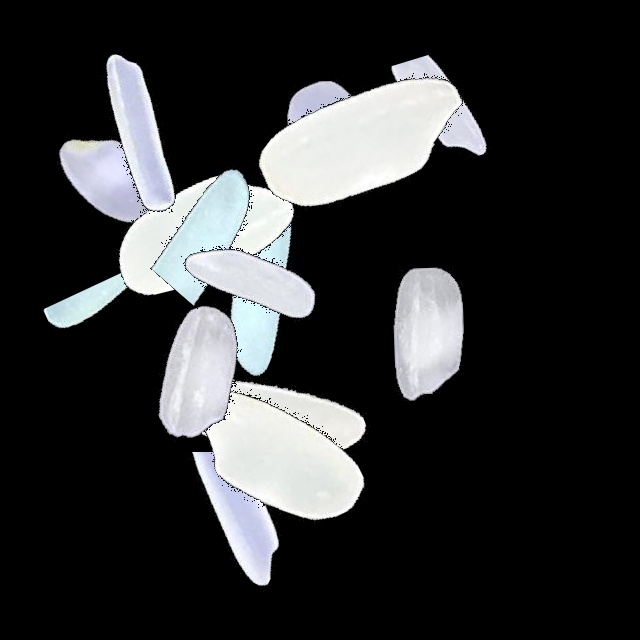Broken: (44, 19, 216, 269), (89, 452, 339, 622), (362, 13, 532, 263), (147, 107, 290, 357), (27, 264, 277, 373)
Full: (146, 290, 396, 540), (206, 10, 456, 260), (136, 155, 386, 405), (302, 210, 552, 460), (152, 327, 402, 577), (78, 104, 328, 354), (70, 248, 320, 498), (232, 11, 482, 261), (14, 7, 264, 257), (129, 157, 379, 407)
